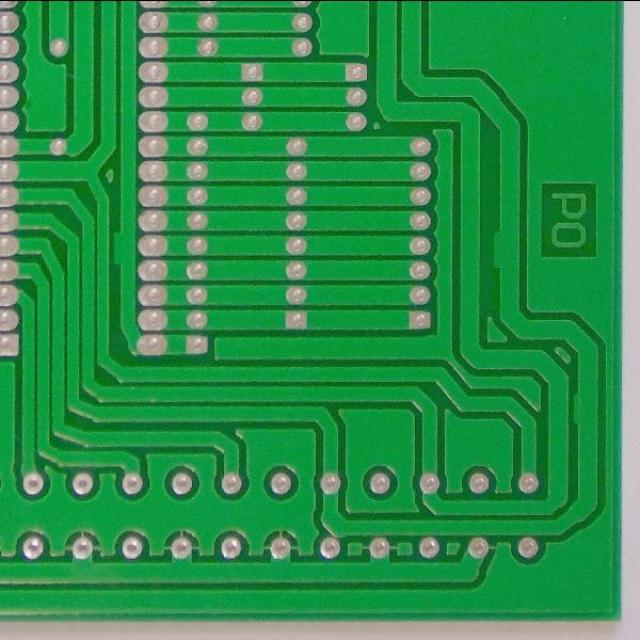Spur: (487, 224, 526, 275), (568, 386, 605, 433), (110, 226, 141, 271)
